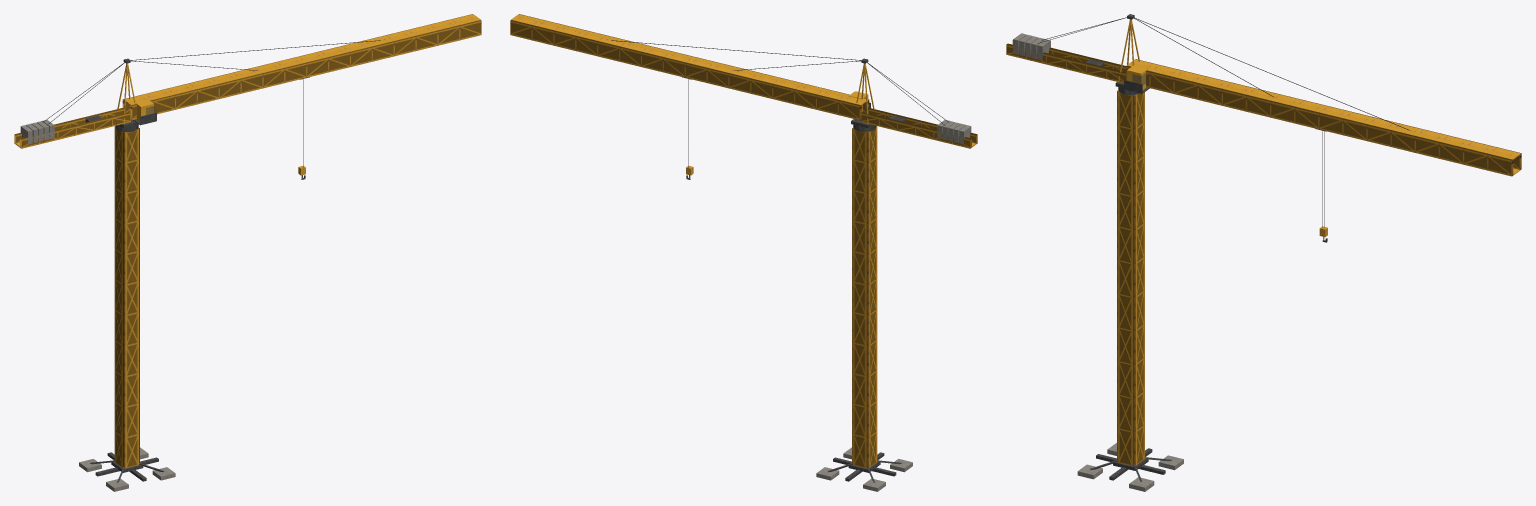
File: crane.obj
3 renders of one model, left to right at view 1: azimuth 30°, elevation 25°; view 2: azimuth 150°, elevation 25°; view 3: azimuth 330°, elevation 25°, orthographic. The views are drawn at different scales.
Bounding box in the file's own units: 63 × 53.95 × 8.4.
13 materials, 13 textured.
